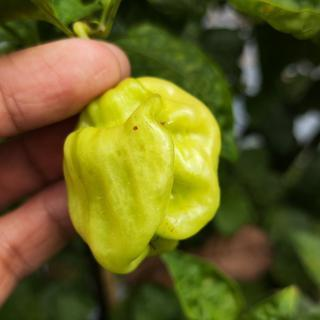Fly-bites: (127, 119, 147, 136)
